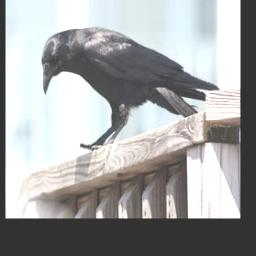Crow: (41, 26, 222, 150)
